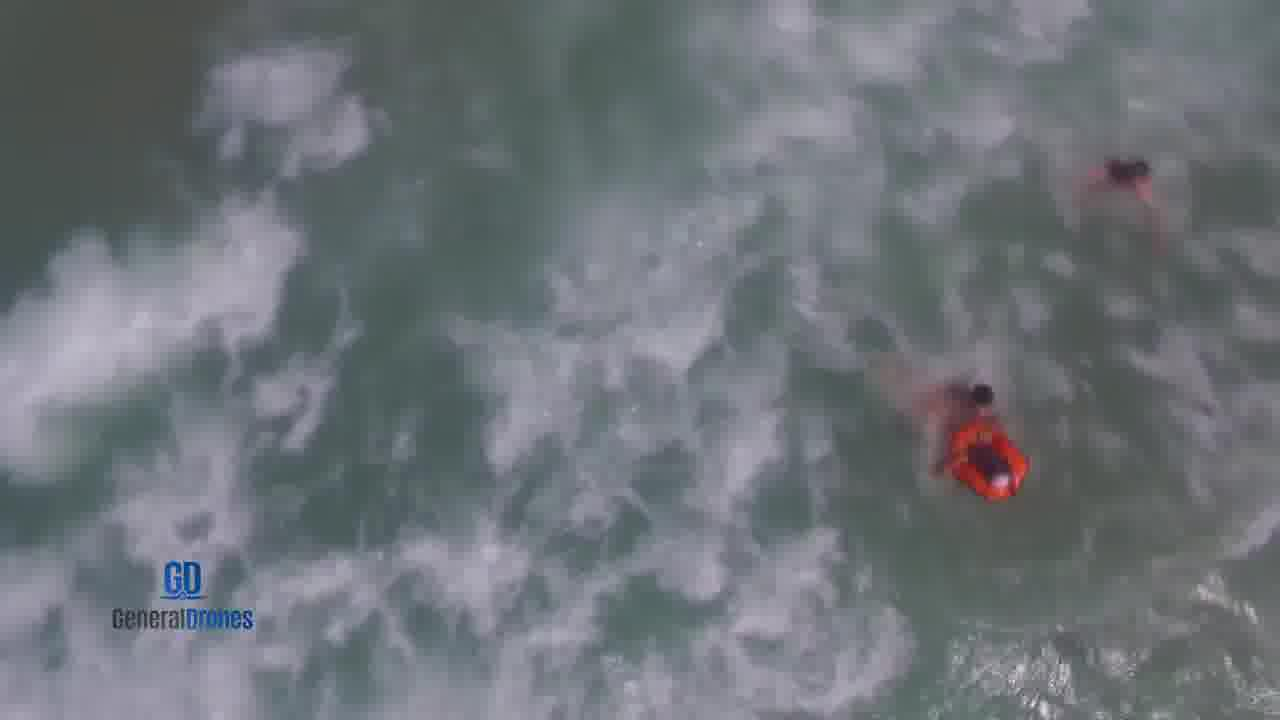human: (1082, 148, 1172, 197), (947, 375, 1017, 425), (947, 440, 1014, 490)
